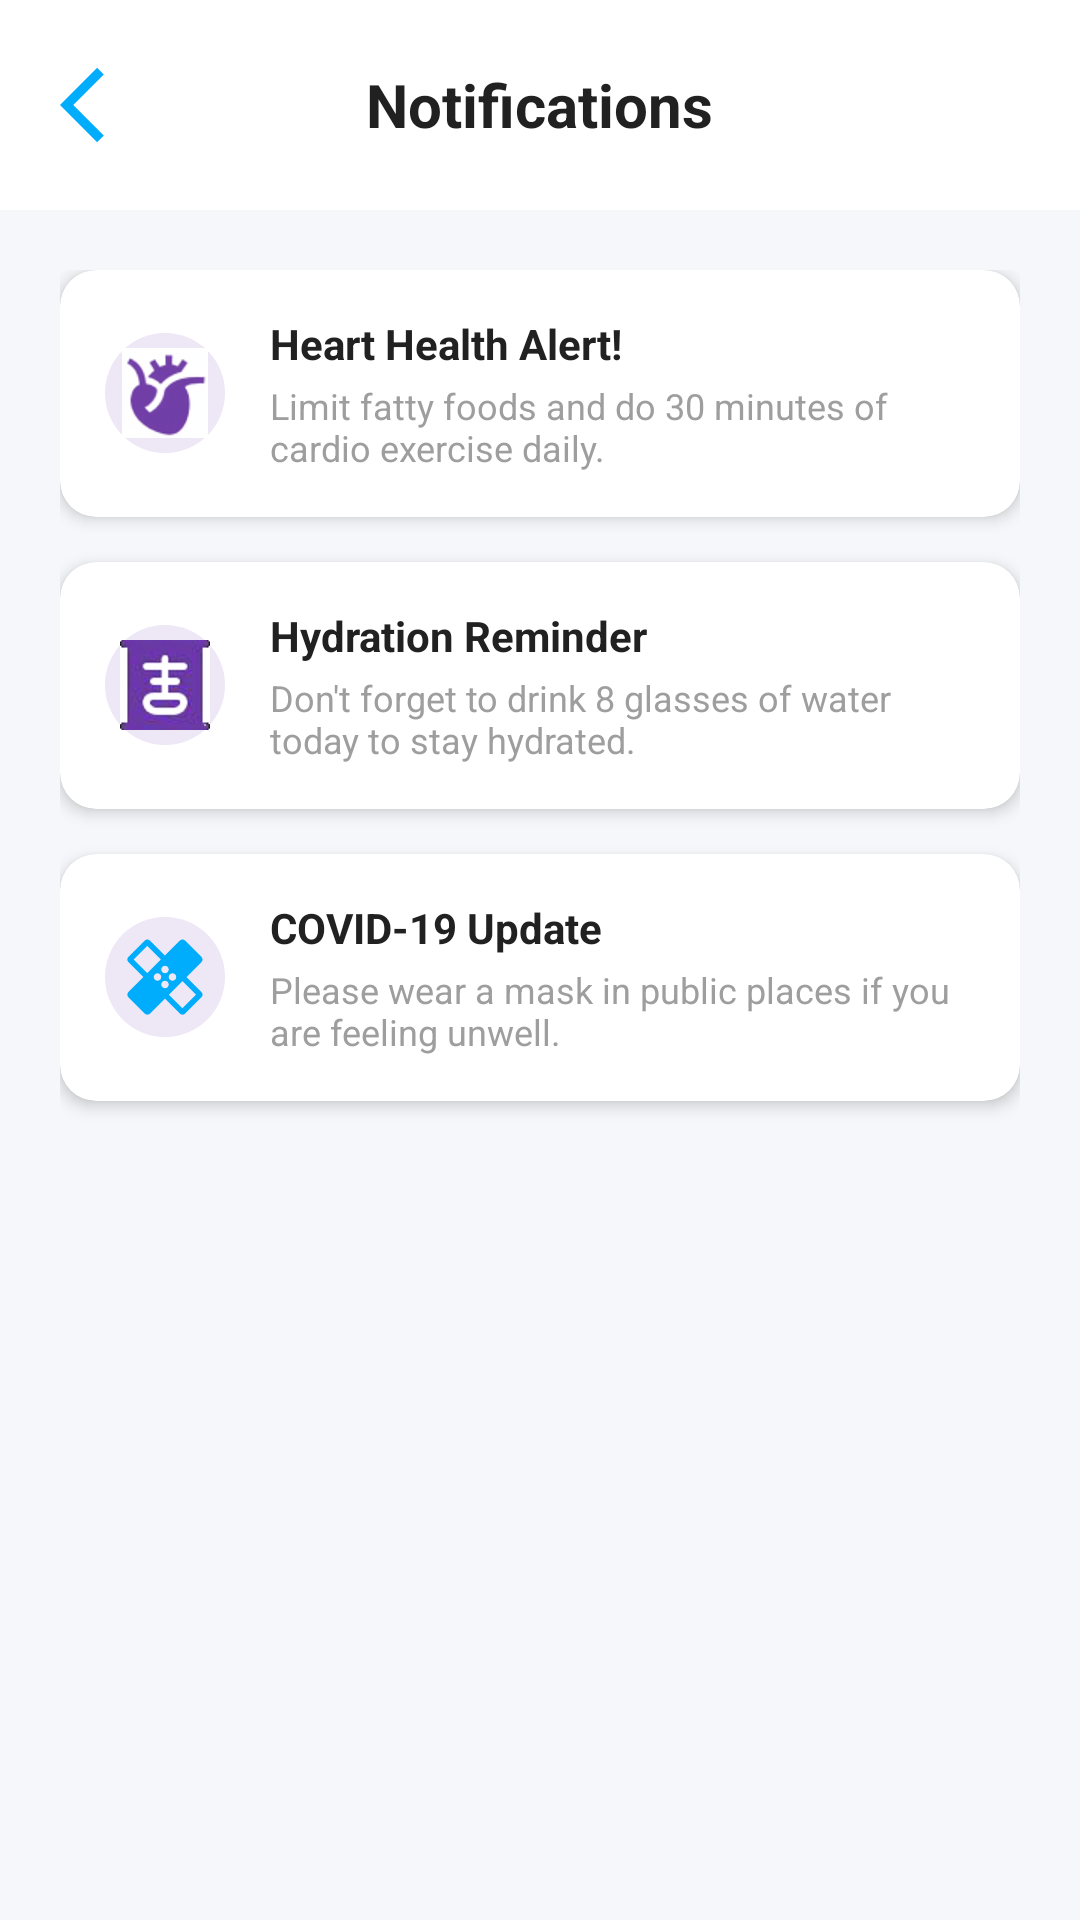

Where icons sit on this 1080px x 1920px app screen, as (x1, y1, x2, y2):
back: (60, 68, 104, 142)
jantung: (127, 354, 206, 436)
